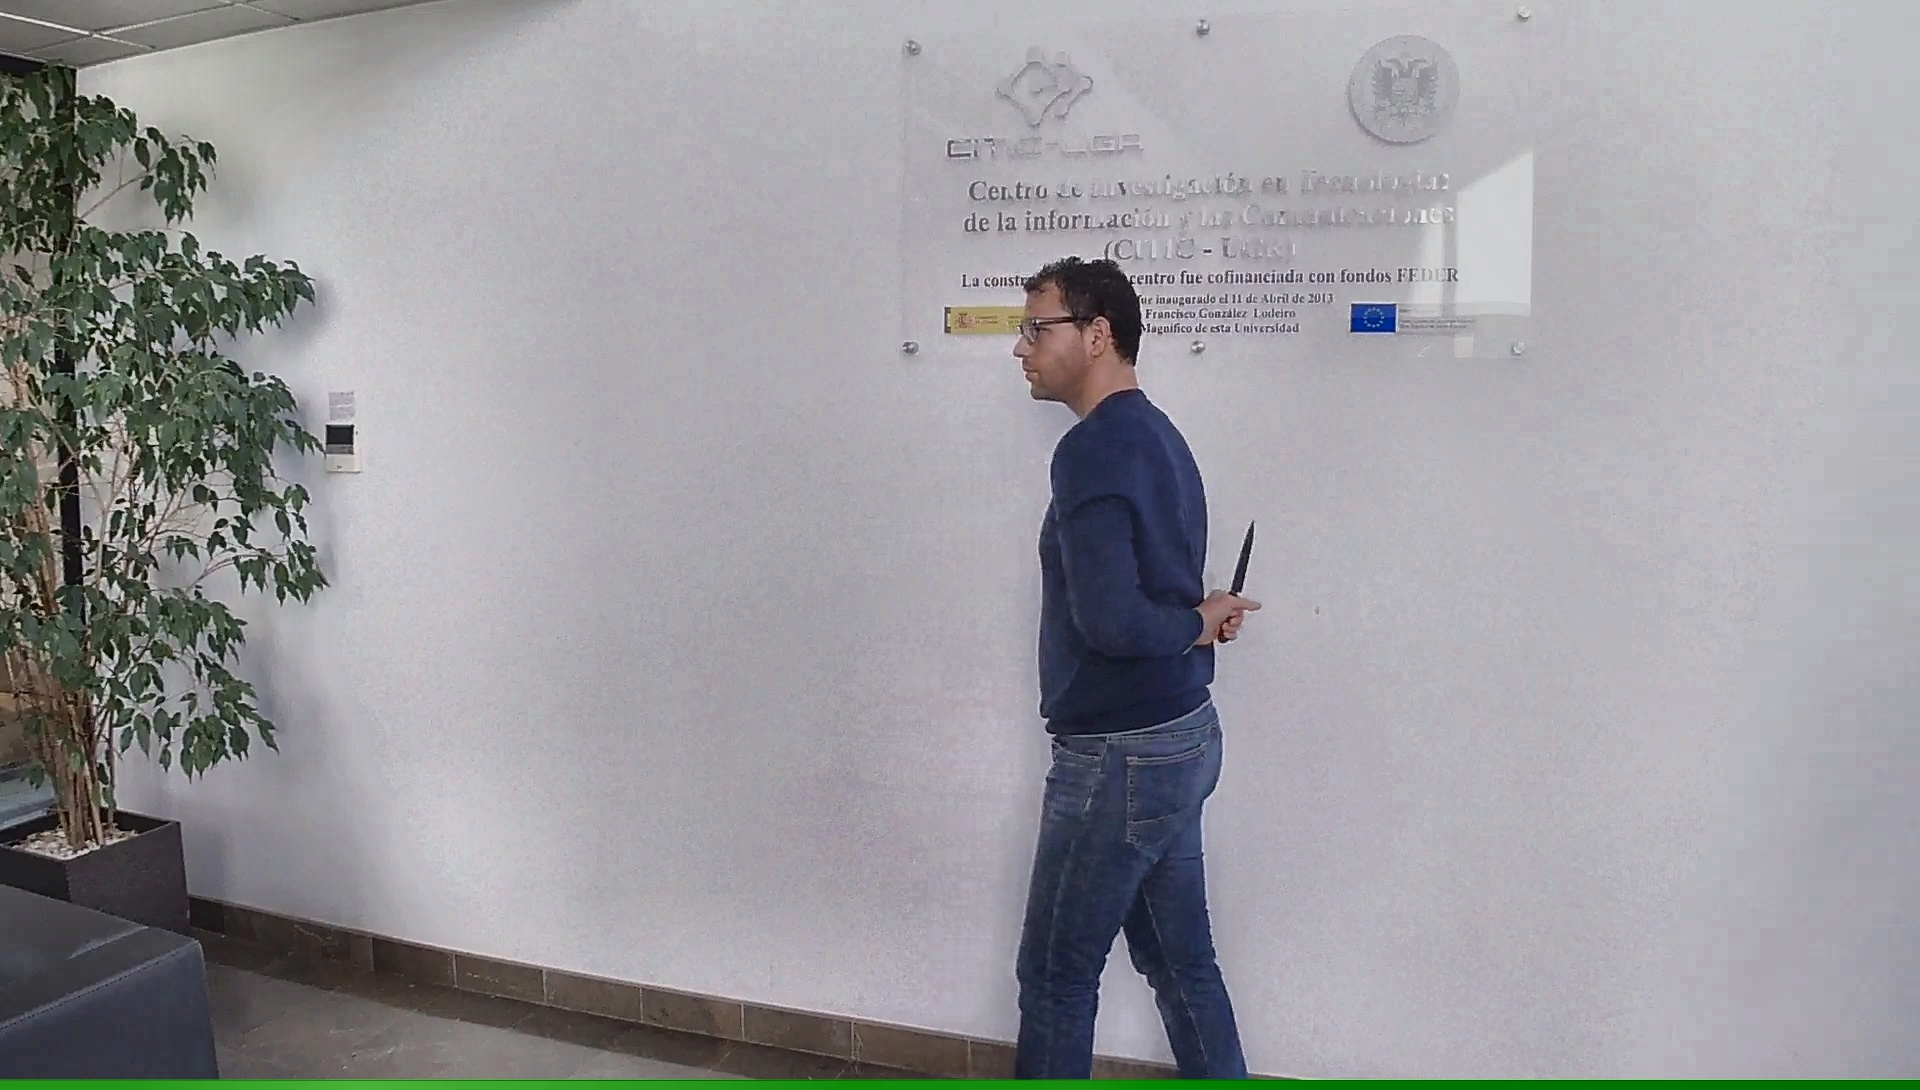knife: (1212, 511, 1269, 650)
